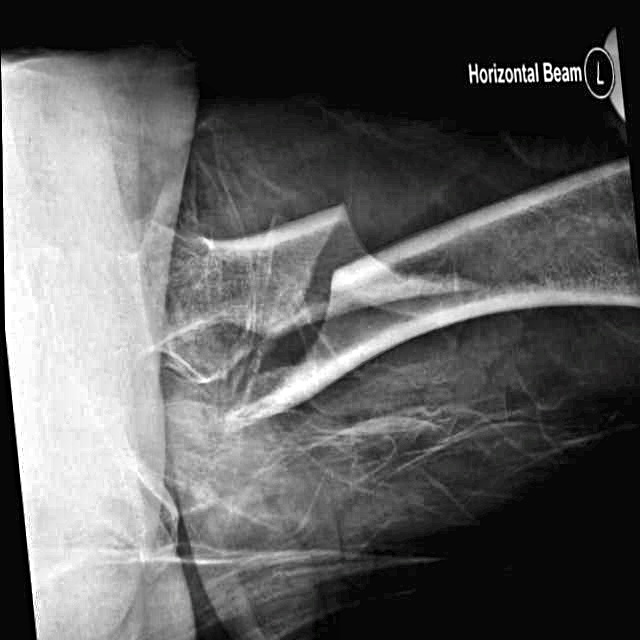Spiral: (194, 183, 466, 442)
